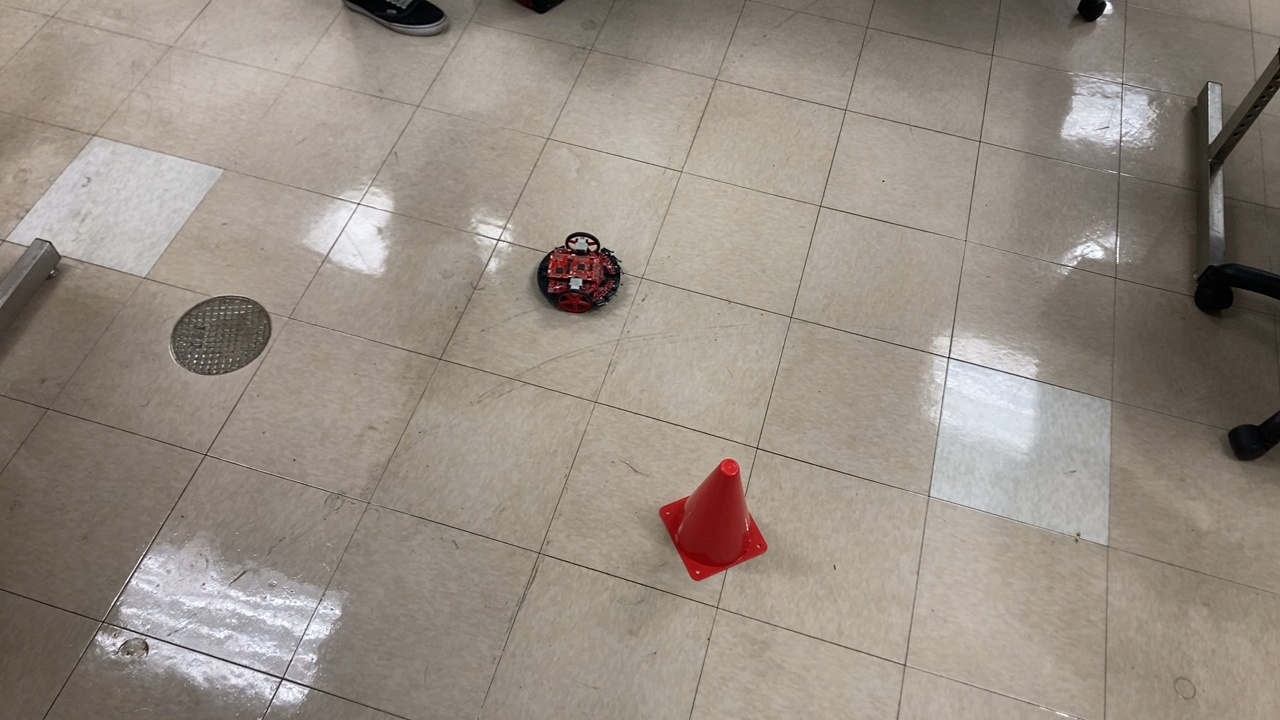red_cone: (657, 455, 769, 585)
robot: (534, 232, 624, 319)
